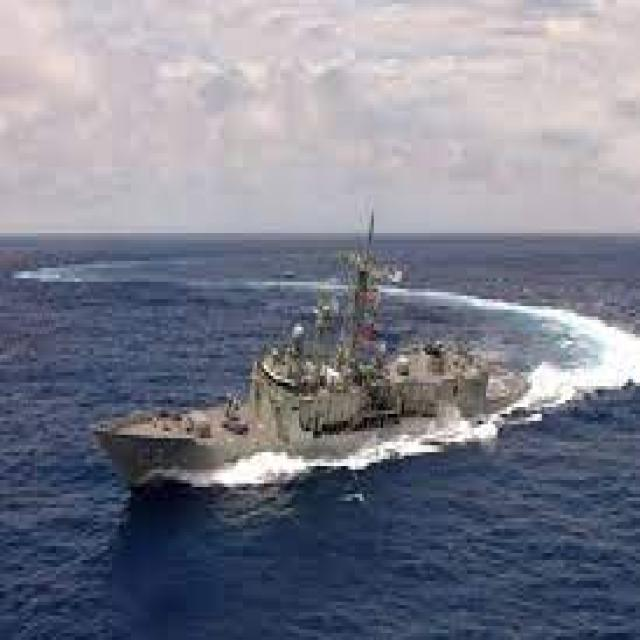navalvessels: (80, 215, 525, 512)
